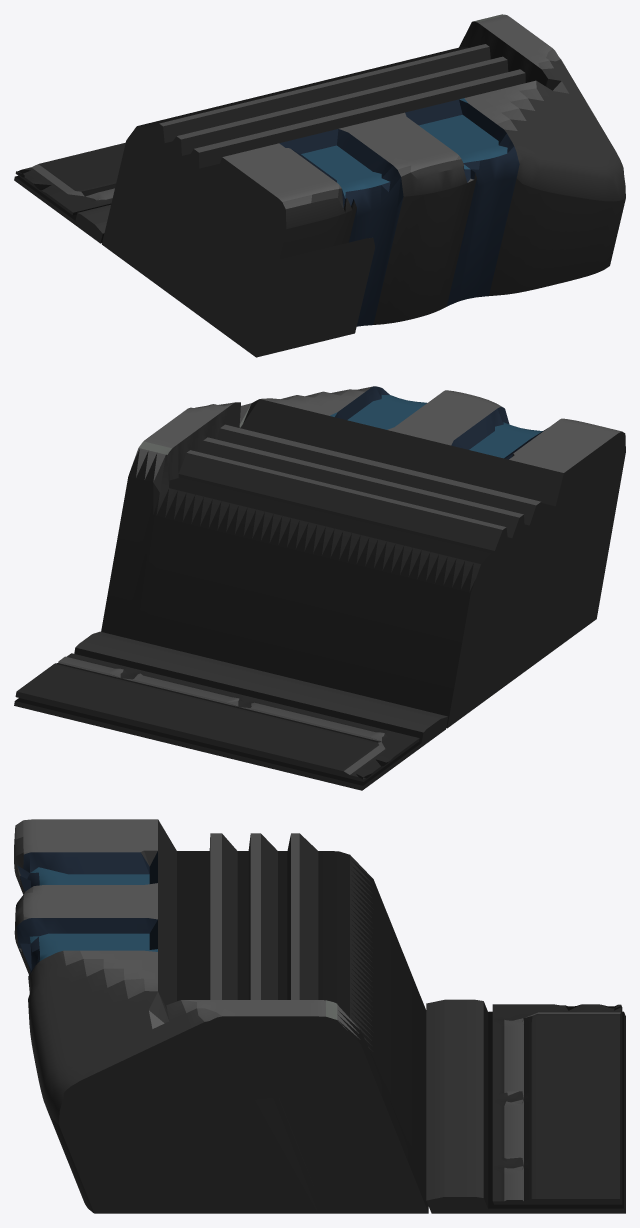
Rendered from fleet_walker_89.glb.
3 renders of one model, top to bottom at view 1: azimuth 30°, elevation 25°; view 2: azimuth 150°, elevation 25°; view 3: azimuth 270°, elevation 25°, orthographic. The views are drawn at different scales.
Parts seen in each view (by area): view 1: fleet_walker_89; view 2: fleet_walker_89; view 3: fleet_walker_89.
Part boxes in pixels (left/top/right/bottom): fleet_walker_89: left=14, top=14, right=625, bottom=357; fleet_walker_89: left=14, top=386, right=625, bottom=790; fleet_walker_89: left=14, top=819, right=625, bottom=1213.
Bounding box in the file's own units: 24 × 11.2 × 31.49.
